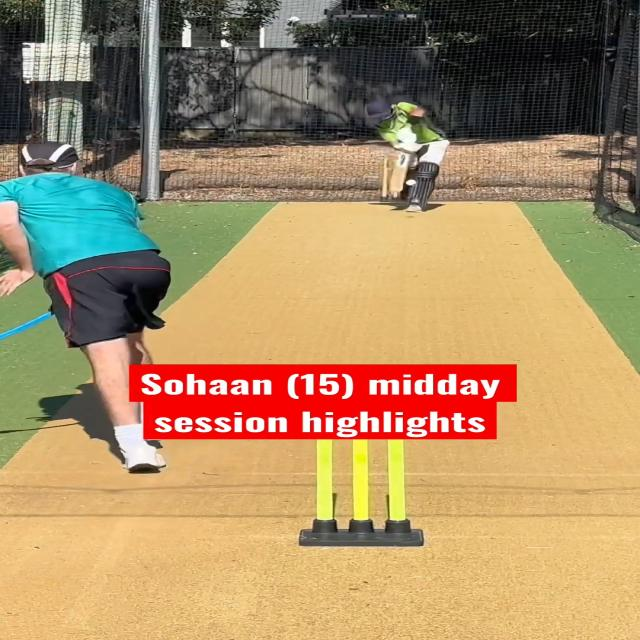stump: (299, 437, 420, 547)
